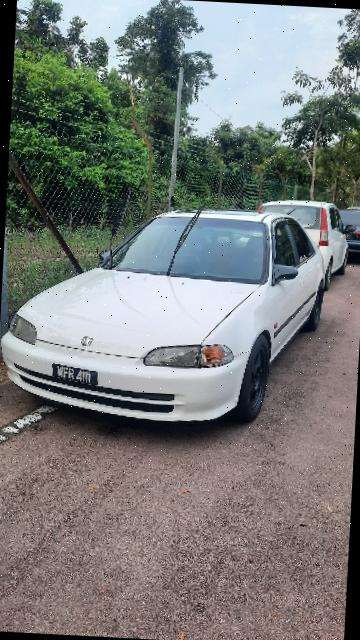License_Plate: (48, 358, 102, 391)
car: (1, 197, 329, 437)
